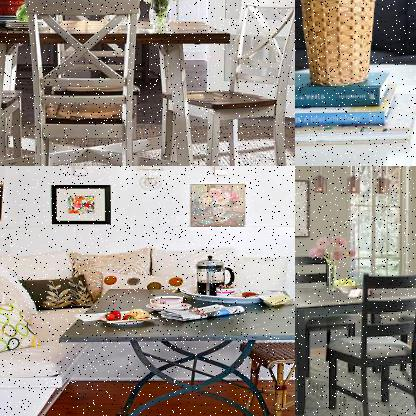table: (0, 7, 234, 165), (47, 280, 294, 415), (295, 274, 415, 415), (295, 56, 415, 165)
